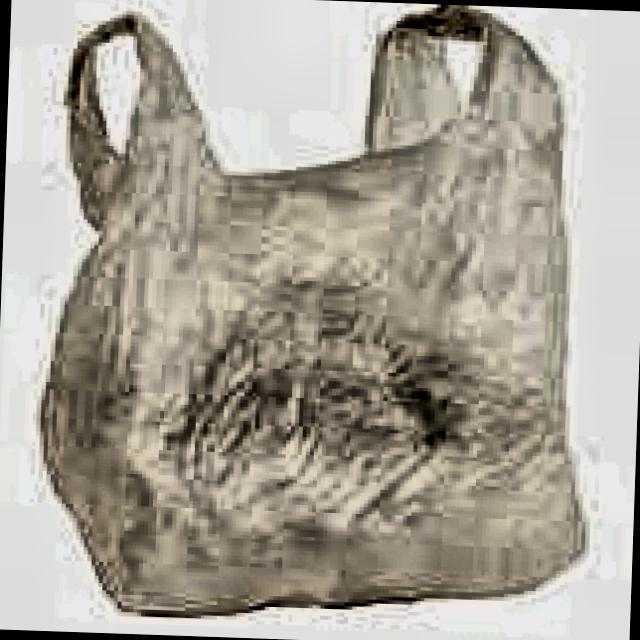plastic bag: (44, 4, 581, 611)
